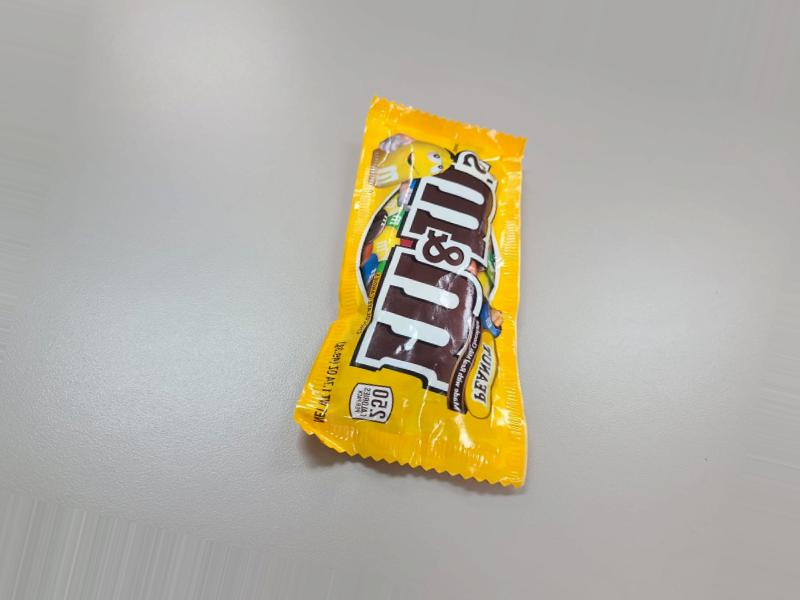m&m: (314, 154, 530, 475)
